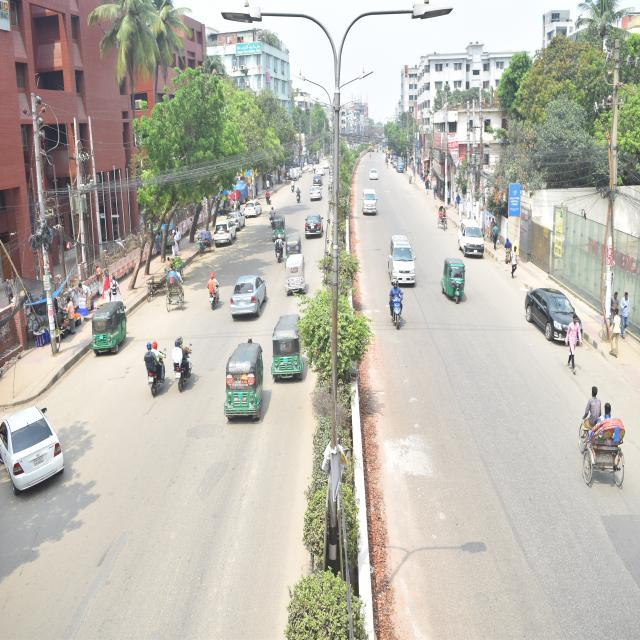car: (0, 383, 75, 519), (511, 258, 592, 365), (452, 209, 501, 274), (384, 222, 424, 301), (226, 266, 268, 314), (204, 207, 238, 261), (358, 188, 382, 234), (239, 186, 261, 227), (296, 211, 330, 236), (228, 198, 246, 232), (307, 180, 329, 207), (367, 160, 385, 191), (310, 168, 322, 190)
motorbike: (372, 264, 409, 337), (143, 333, 171, 412), (168, 326, 196, 398), (199, 267, 223, 321), (266, 228, 284, 266), (259, 186, 273, 212), (290, 175, 299, 198), (294, 185, 304, 202)
